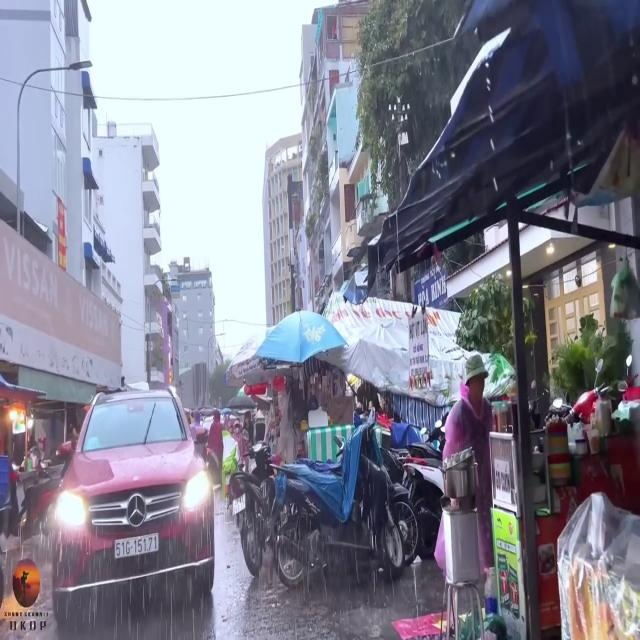bien_trang: (114, 536, 158, 556)
